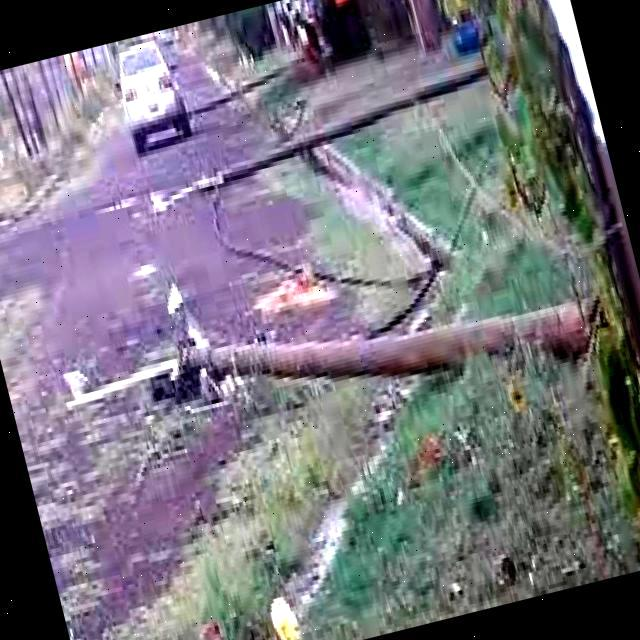Broken Pole: (63, 309, 592, 412), (195, 56, 484, 195)
